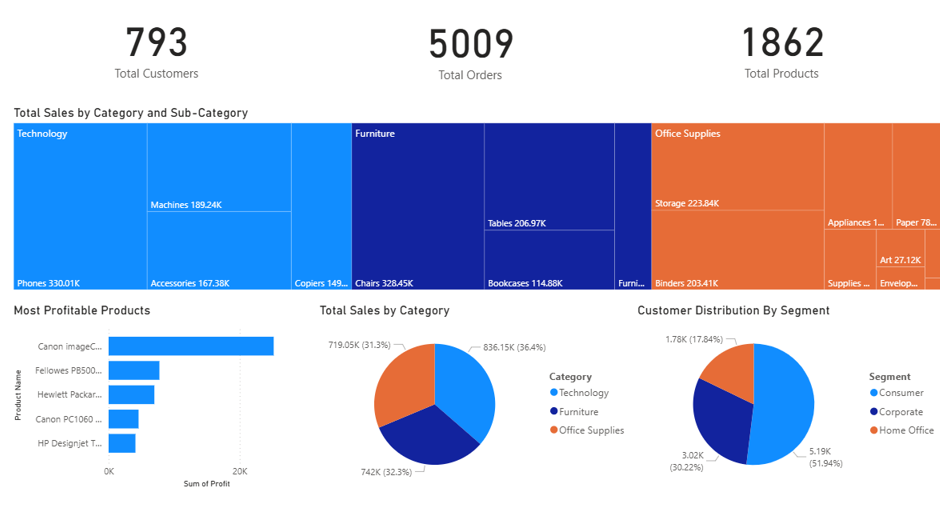

What the dashboard file says about the page in this screenshot:
{"tool":"powerbi","page":{"name":"Page 2","canvas":[1280,720],"ordinal":1},"visuals":[{"type":"card","fields":{"Values":["Count(Orders.Customer ID)"]},"box":[0,0,430.7,140.9],"z":0},{"type":"card","fields":{"Values":["Count(Orders.Order ID)"]},"box":[430.7,4.9,416.1,136],"z":1000},{"type":"card","fields":{"Values":["Count(Orders.Product ID)"]},"box":[837.1,0,443.7,140.9],"z":2000},{"type":"treemap","title":"Total Sales by Category and Sub-Category","fields":{"Values":["Sum(Orders.Sales)"],"Group":["Orders.Category"],"Details":["Orders.Sub-Category"]},"box":[17.8,152.2,1263,254.2],"z":3000},{"type":"barChart","title":"Most Profitable Products","fields":{"Category":["Orders.Product Name"],"Y":["Sum(Orders.Profit)"]},"box":[17.1,418.9,413.2,254],"z":4000},{"type":"pieChart","title":"Total Sales by Category","fields":{"Y":["Sum(Orders.Sales)"],"Category":["Orders.Category"]},"box":[430.3,418.9,430.3,254],"z":5000},{"type":"pieChart","title":"Customer Distribution By Segment","fields":{"Series":["Orders.Segment"],"Y":["CountNonNull(Orders.Customer ID)"]},"box":[860,419,420,254],"z":5001}]}

Visuals, with their boxes on the page's 1280x720 design canvas (x1, y1, x2, y2). These are canvas units, not pixel positions in the 940x507 screenshot, which may show the page scaled, cropped or inside an application window:
card - Count(Orders.Customer ID): [left=0, top=0, right=431, bottom=141]
card - Count(Orders.Order ID): [left=431, top=5, right=847, bottom=141]
card - Count(Orders.Product ID): [left=837, top=0, right=1281, bottom=141]
"Total Sales by Category and Sub-Category" treemap: [left=18, top=152, right=1281, bottom=406]
"Most Profitable Products" barChart: [left=17, top=419, right=430, bottom=673]
"Total Sales by Category" pieChart: [left=430, top=419, right=861, bottom=673]
"Customer Distribution By Segment" pieChart: [left=860, top=419, right=1280, bottom=673]
